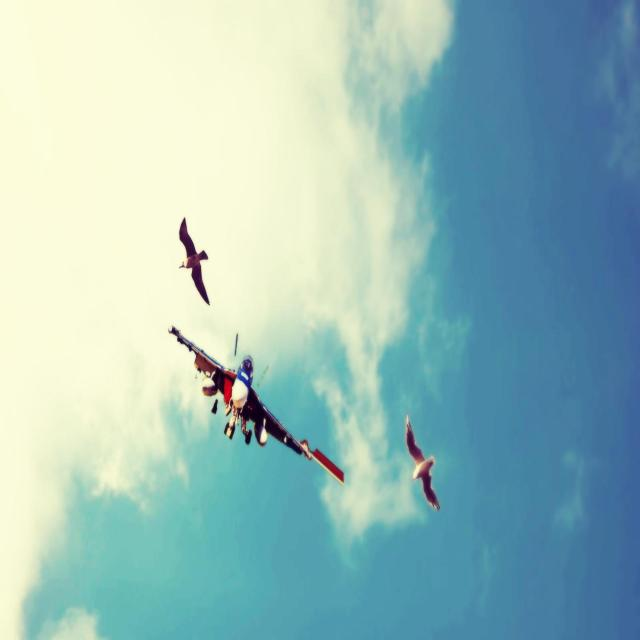airplane: (168, 324, 344, 486)
